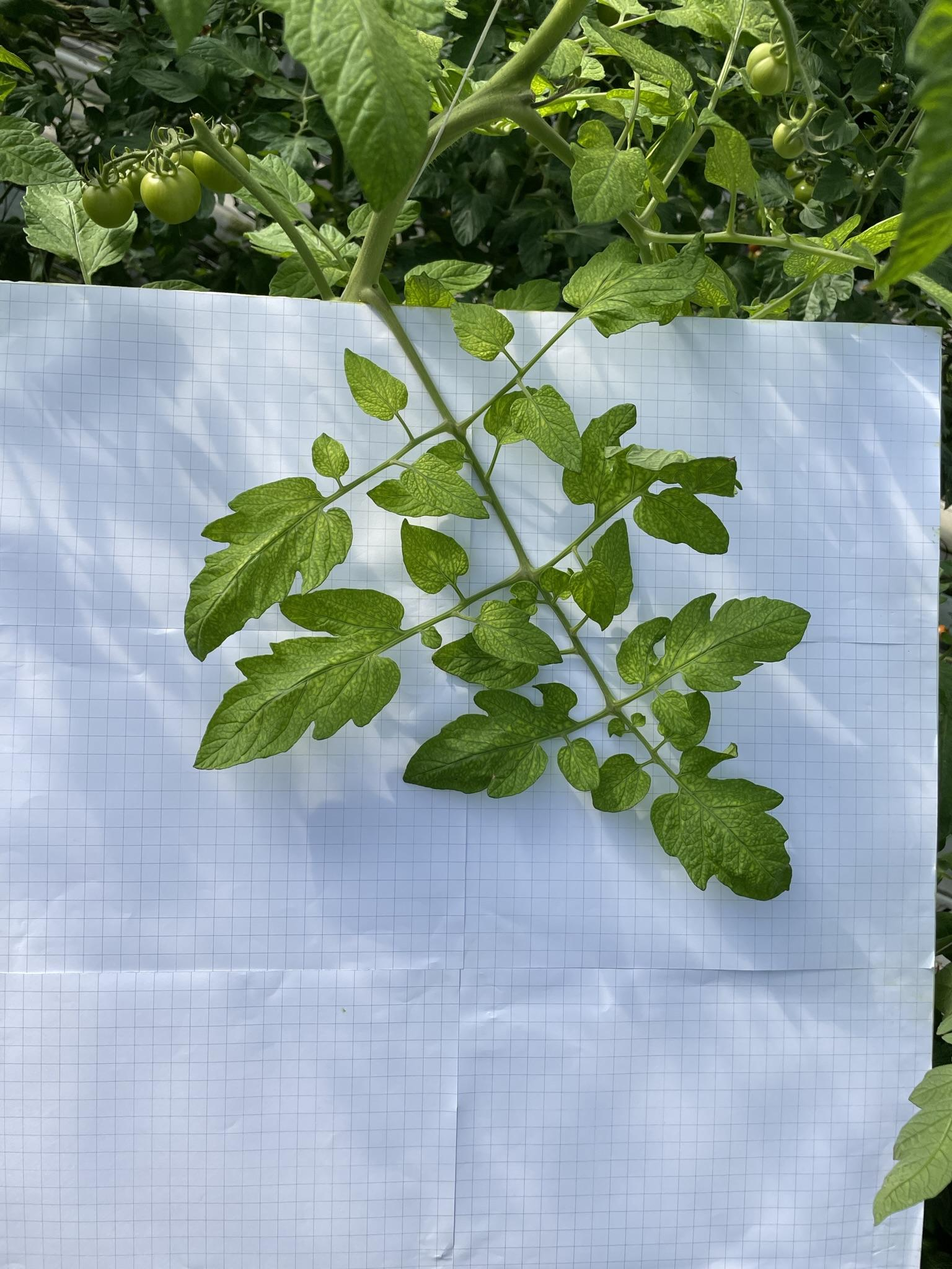Iron Deficiency: (253, 0, 446, 217), (194, 588, 405, 769), (182, 475, 353, 662), (400, 682, 602, 800), (648, 740, 793, 902), (561, 389, 745, 515), (614, 591, 816, 694), (559, 230, 711, 339), (20, 179, 140, 270), (569, 118, 652, 228), (584, 16, 695, 96), (780, 210, 903, 276), (632, 486, 731, 557), (509, 384, 583, 474), (470, 597, 564, 667), (695, 106, 762, 202), (399, 451, 490, 520), (432, 632, 539, 690), (399, 517, 470, 595), (342, 346, 410, 422), (588, 517, 634, 617), (589, 751, 652, 815), (450, 300, 514, 362), (569, 559, 619, 633), (366, 478, 451, 517), (687, 255, 738, 308), (650, 689, 698, 737), (403, 271, 458, 309), (311, 431, 351, 478), (427, 438, 465, 471)
